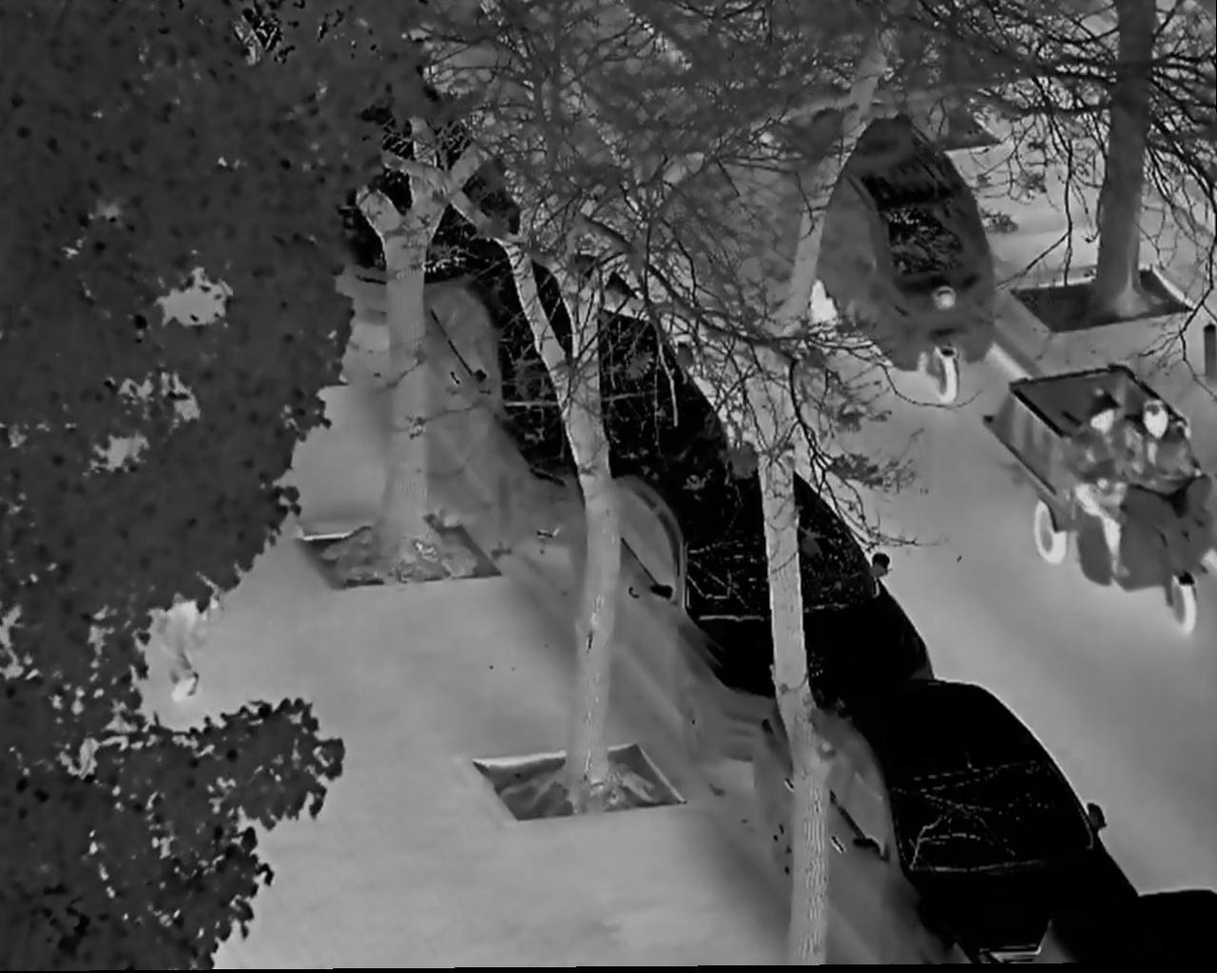person: (1061, 396, 1142, 557), (1125, 396, 1207, 555)
